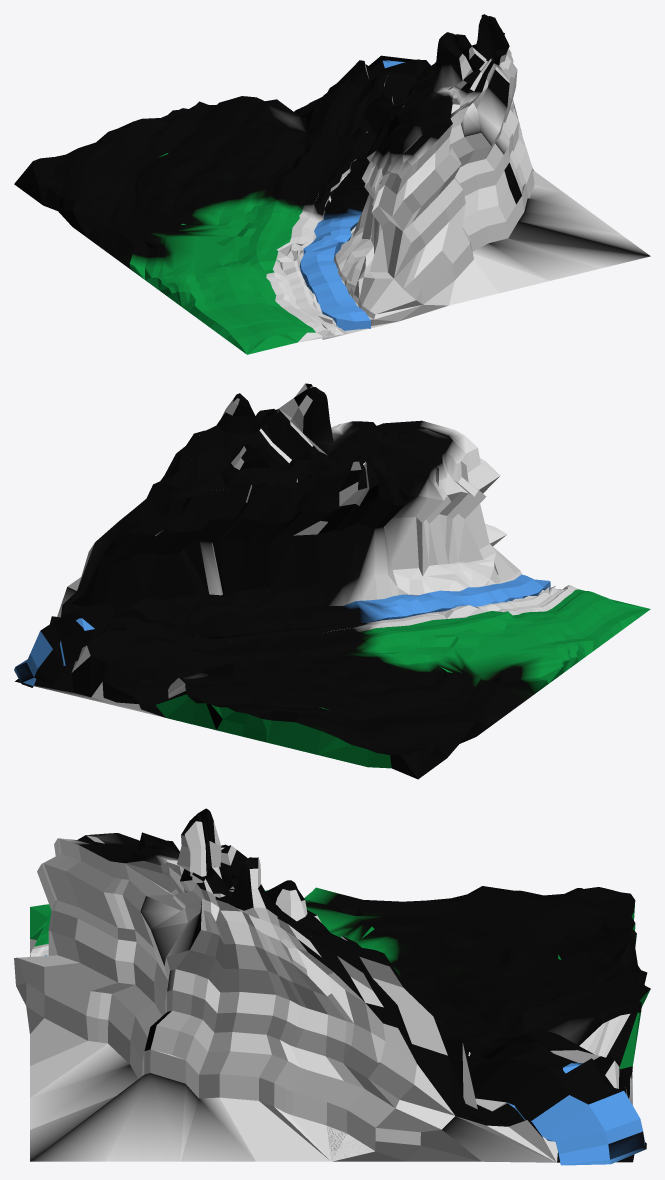
The model's file is Karte_2.fbx.
The picture shows the model from 3 angles, top to bottom: view 1: azimuth 30°, elevation 25°; view 2: azimuth 150°, elevation 25°; view 3: azimuth 270°, elevation 25°; orthographic projection. The views are drawn at different scales.
Parts seen in each view (by area): view 1: Grundgerüst; view 2: Grundgerüst; view 3: Grundgerüst.
Part boxes in pixels (box(x1,y1,x2,y2)): Grundgerüst: box(14, 14, 650, 354); Grundgerüst: box(14, 383, 650, 779); Grundgerüst: box(14, 808, 650, 1165).
Bounding box in the file's own units: 5830 × 2725 × 5758.
